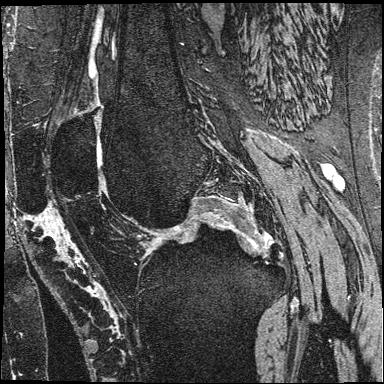SagKneeJointArea: (49, 113, 287, 330)
